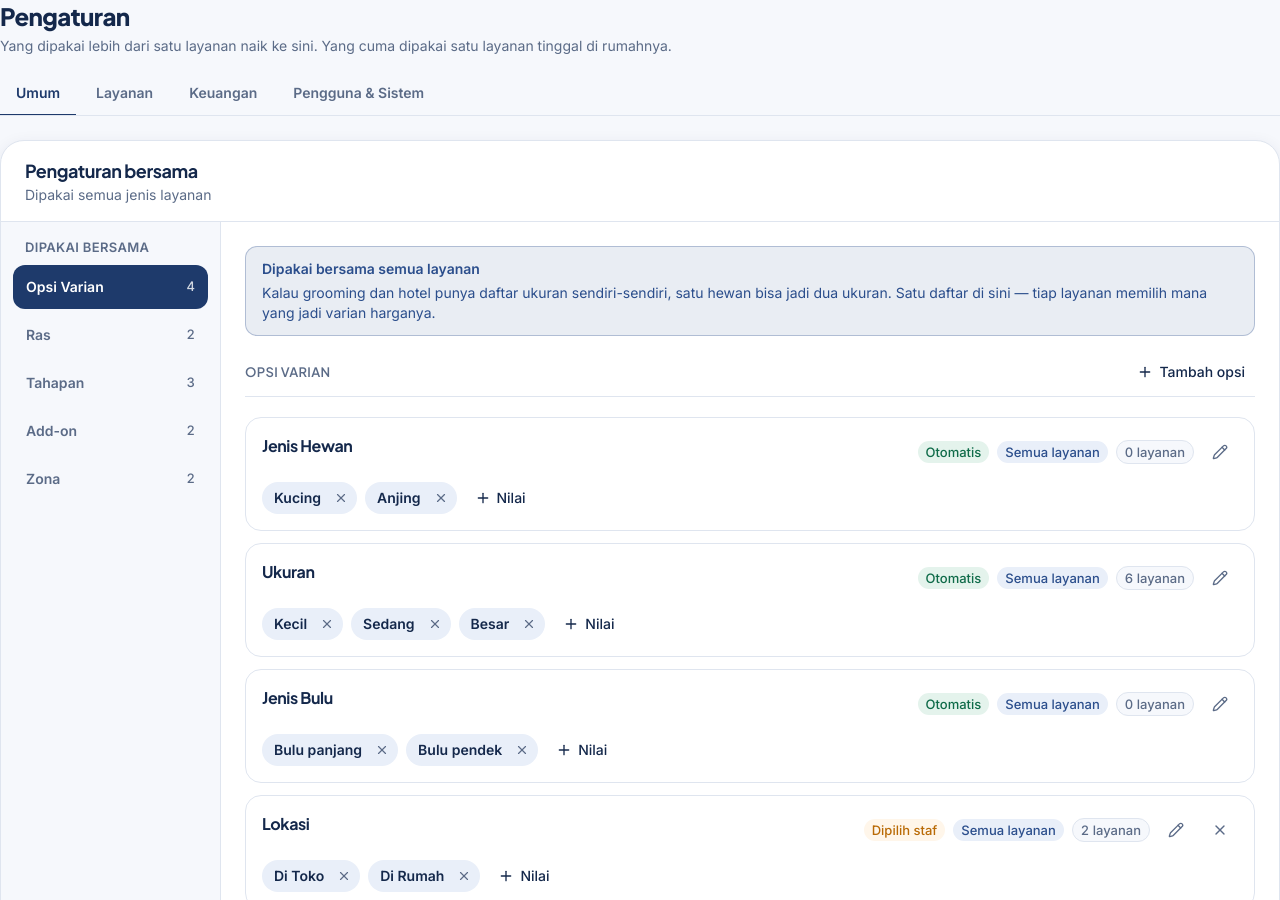
Test case: ServiceSettingsScreen › adds a value to a staff card, and shows the server's refusal when a value is still used
Click the button with aria-label "Tambah nilai Lokasi" at (524, 876), box 488,860 -> 560,892
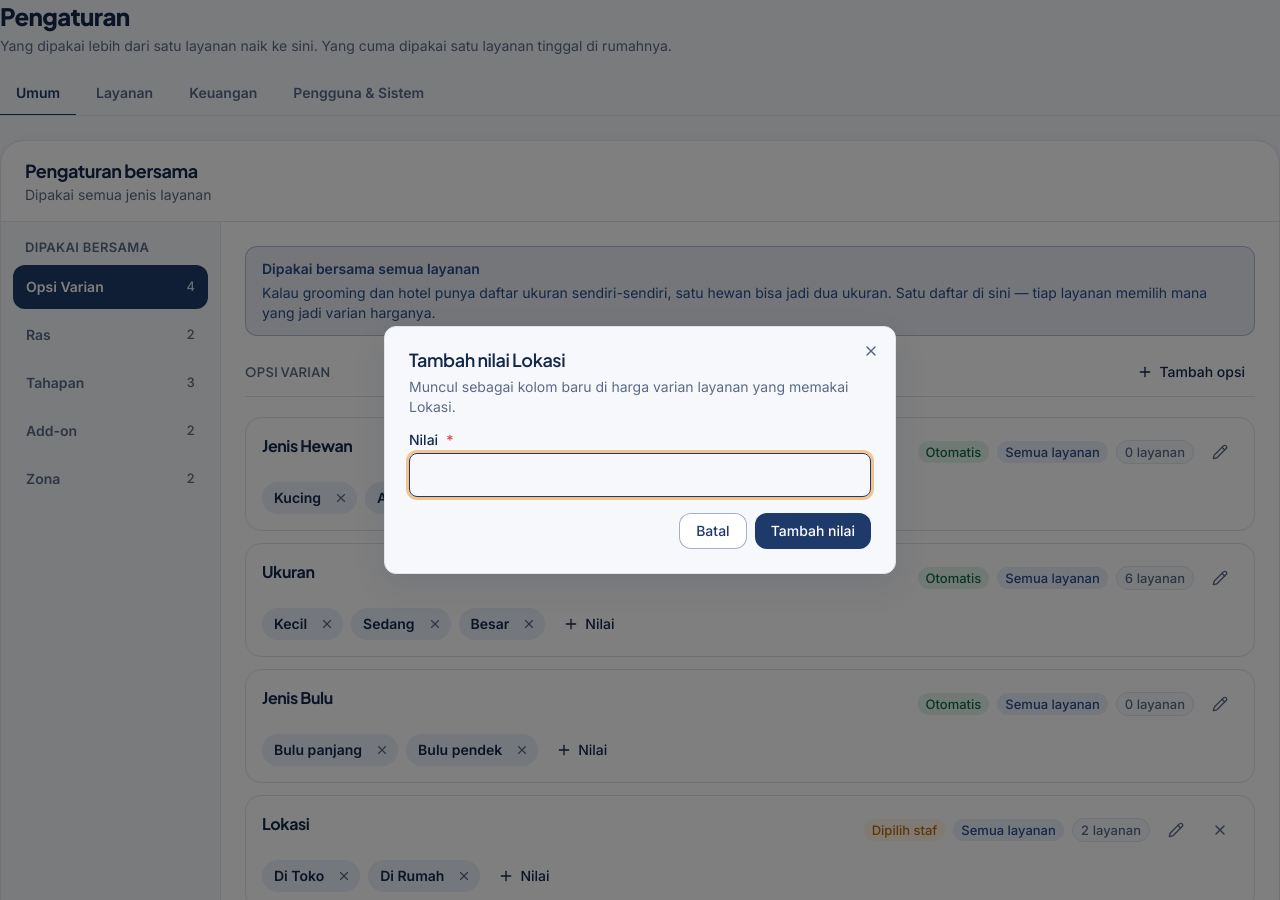
Type "Di Kantor" into the field labelled "Nilai *" at (640, 475), box 409,453 -> 871,497
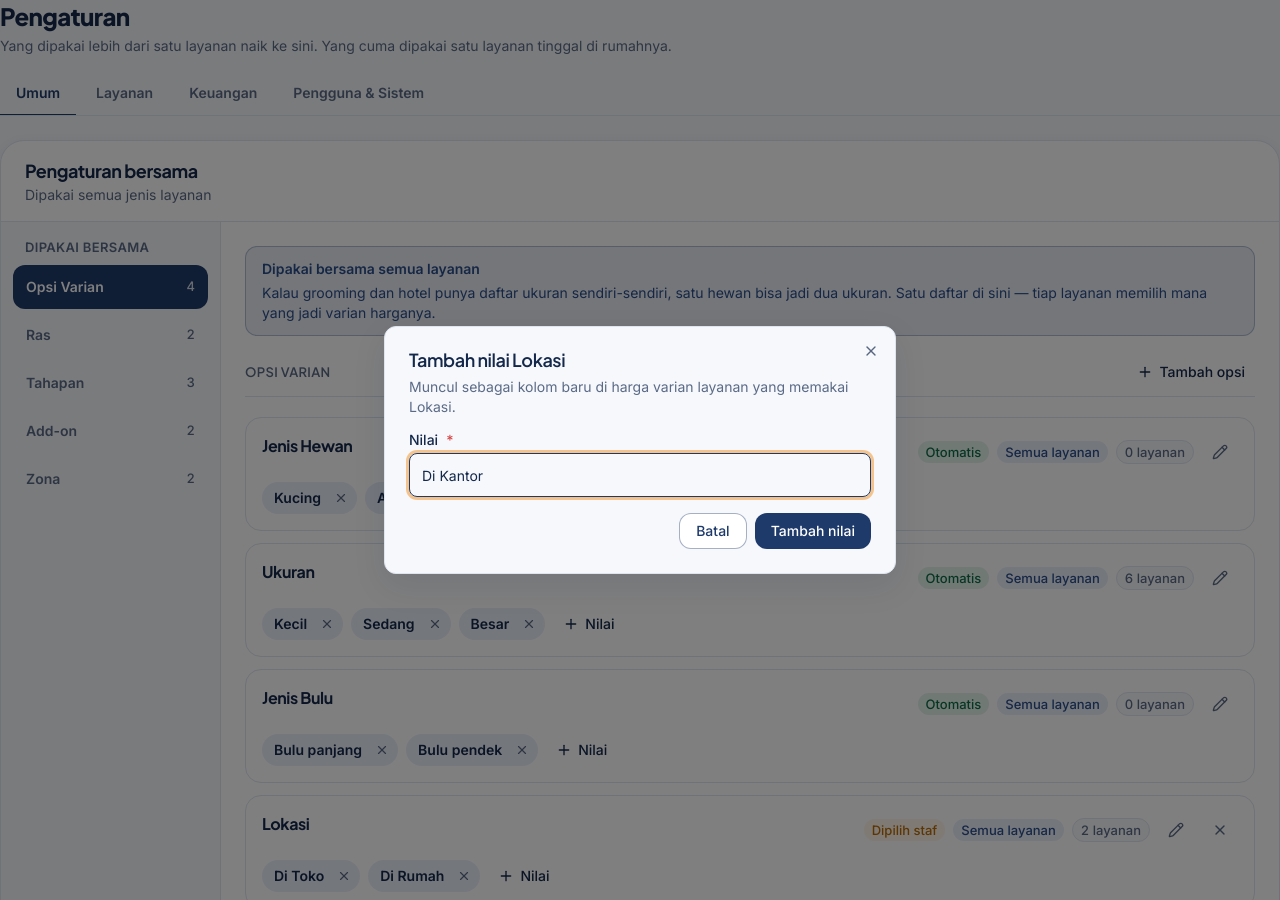
Click the button "Tambah nilai" at (813, 531), box 755,513 -> 871,549
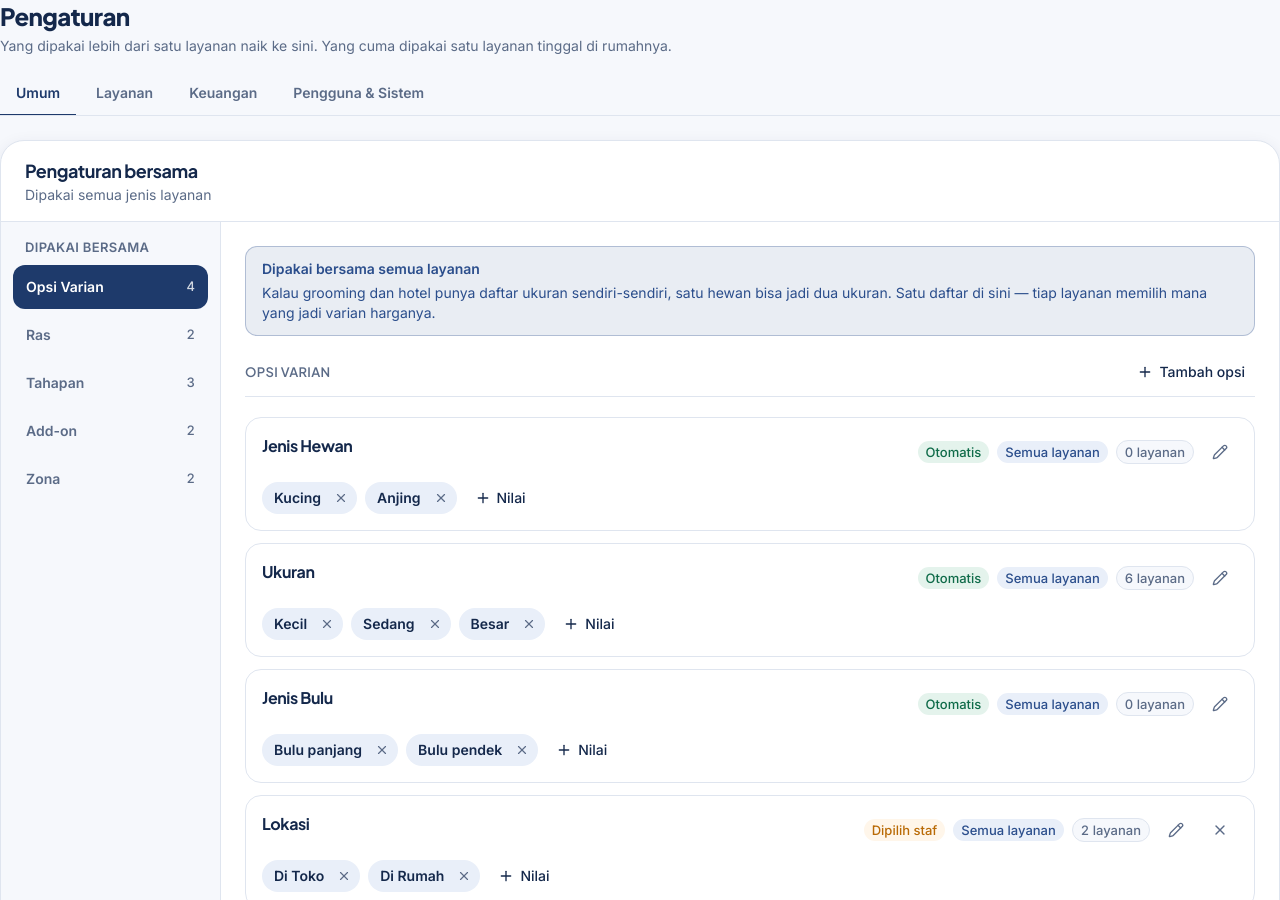
Click the button named "Hapus Di Toko dari Lokasi" at (344, 876), box 332,864 -> 356,888
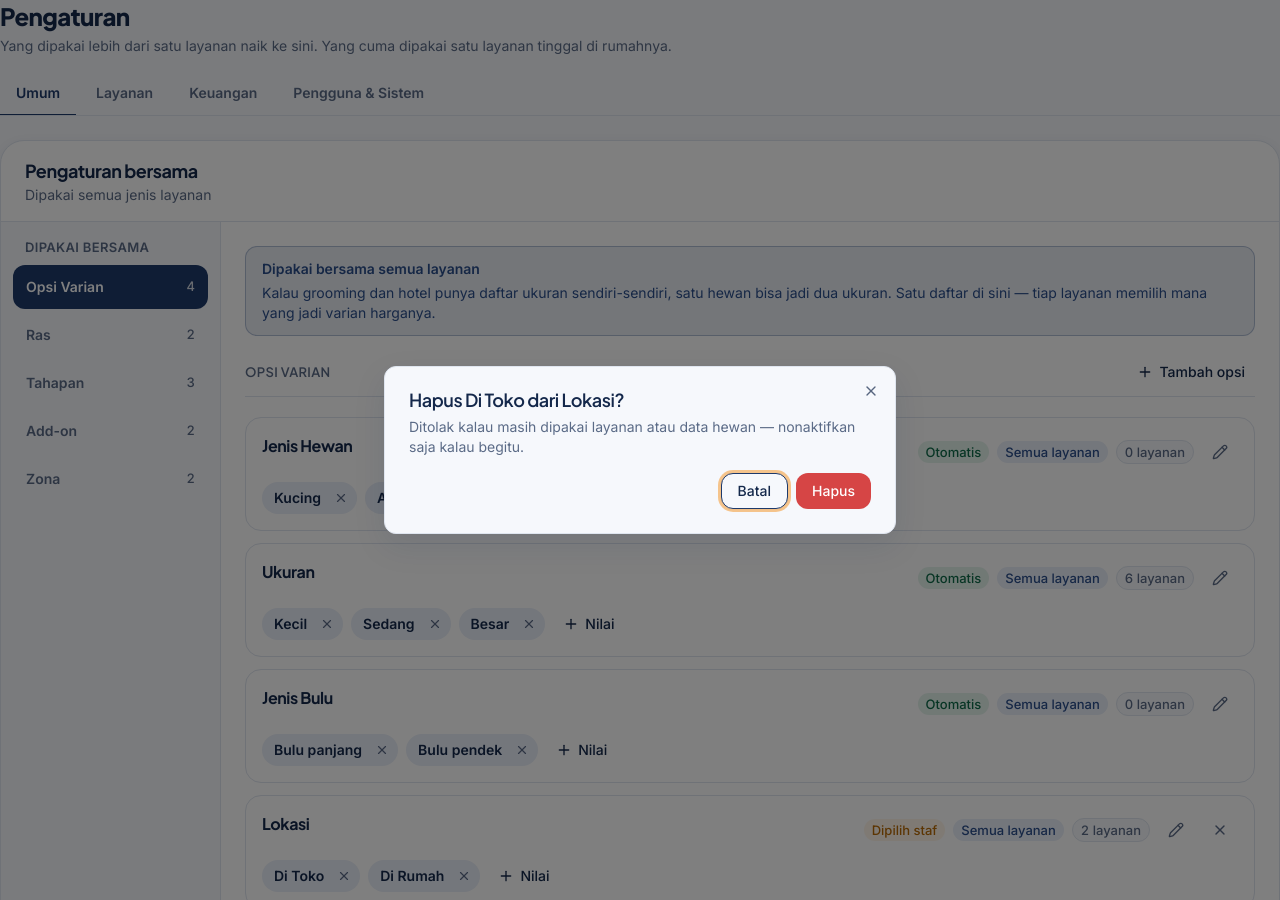
Click the button "Hapus" at (834, 491), box 796,473 -> 871,509
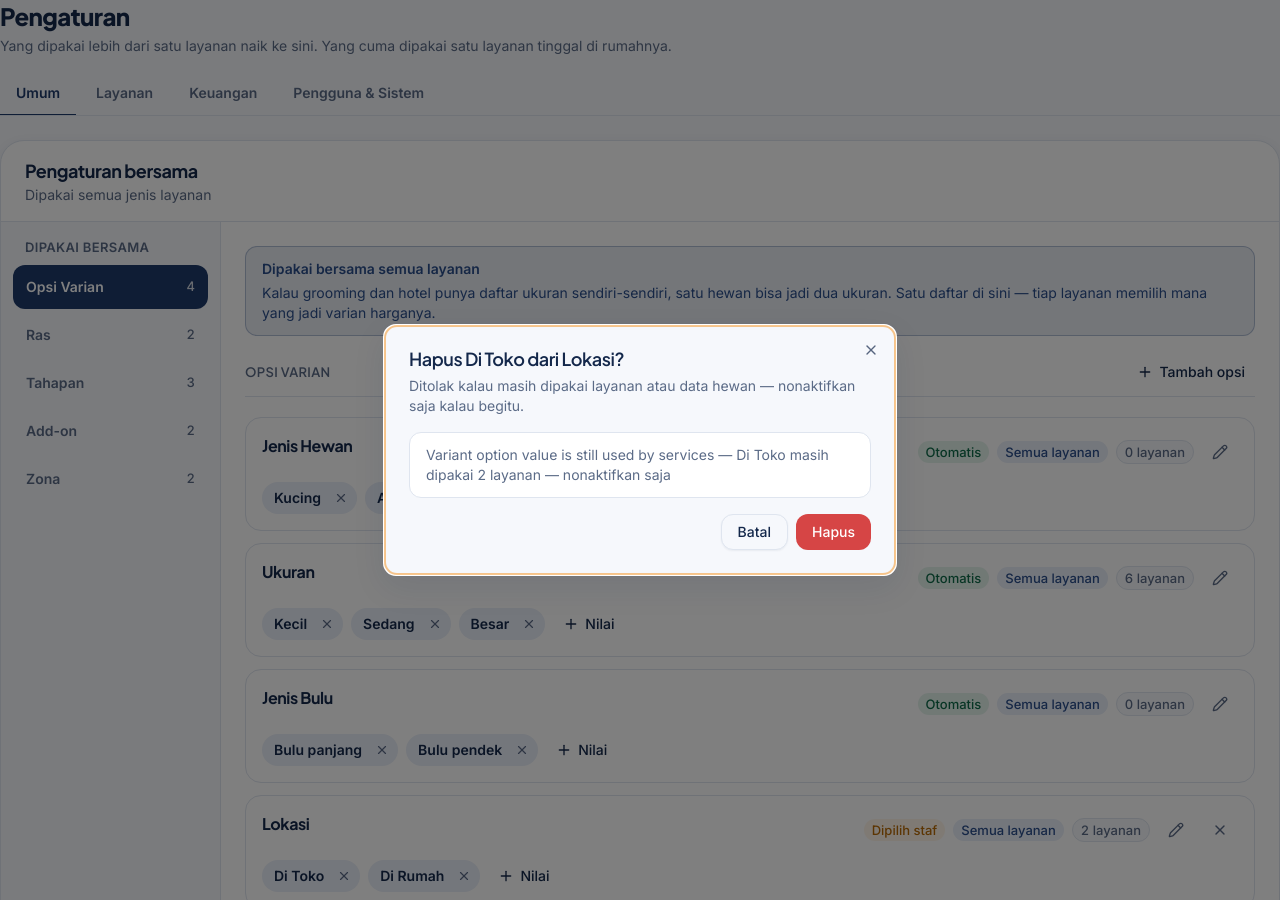
Result: the text "masih dipakai 2 layanan" is shown at 426,446 -> 829,483
